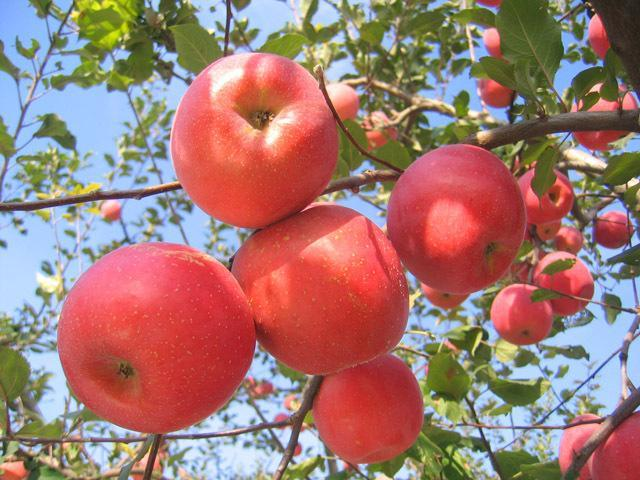apple: (52, 243, 255, 435), (169, 49, 349, 228), (228, 205, 404, 377), (383, 139, 528, 296), (314, 352, 423, 467), (530, 250, 594, 317), (489, 282, 552, 345), (592, 209, 635, 248), (475, 78, 514, 108), (480, 26, 501, 56)
